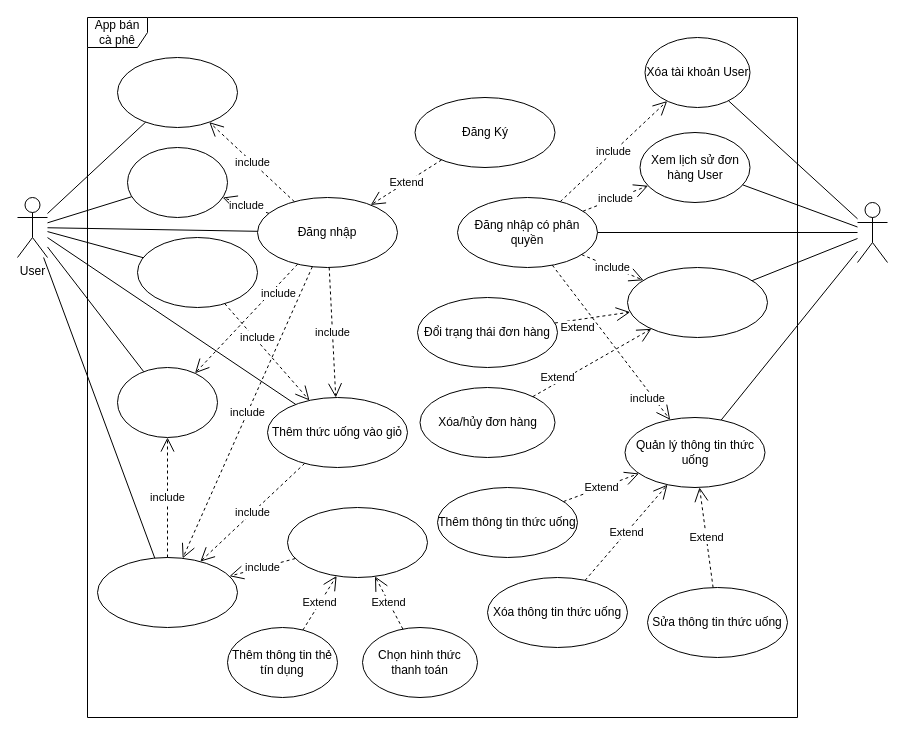
Some shapes in this 907 by 735 pixel diagram are drawn without their labels. Each missing label, with the centre of its shape:
"Admin" goes at point (872, 232).
"Nhập thông tin giao hàng" goes at point (357, 542).
"Xem giỏ hàng" goes at point (177, 92).
"Xem lịch sử mua hàng" goes at point (177, 182).
"Xem thức uống" goes at point (197, 272).
"Xem đơn hàng chưa giao" goes at point (697, 302).
"Đánh giá thức uống" goes at point (167, 402).
"Đặt hàng" goes at point (167, 592).
